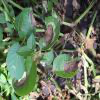Potato leaf late blight: (12, 56, 35, 97), (38, 16, 61, 52), (53, 54, 83, 79), (19, 5, 36, 42)
